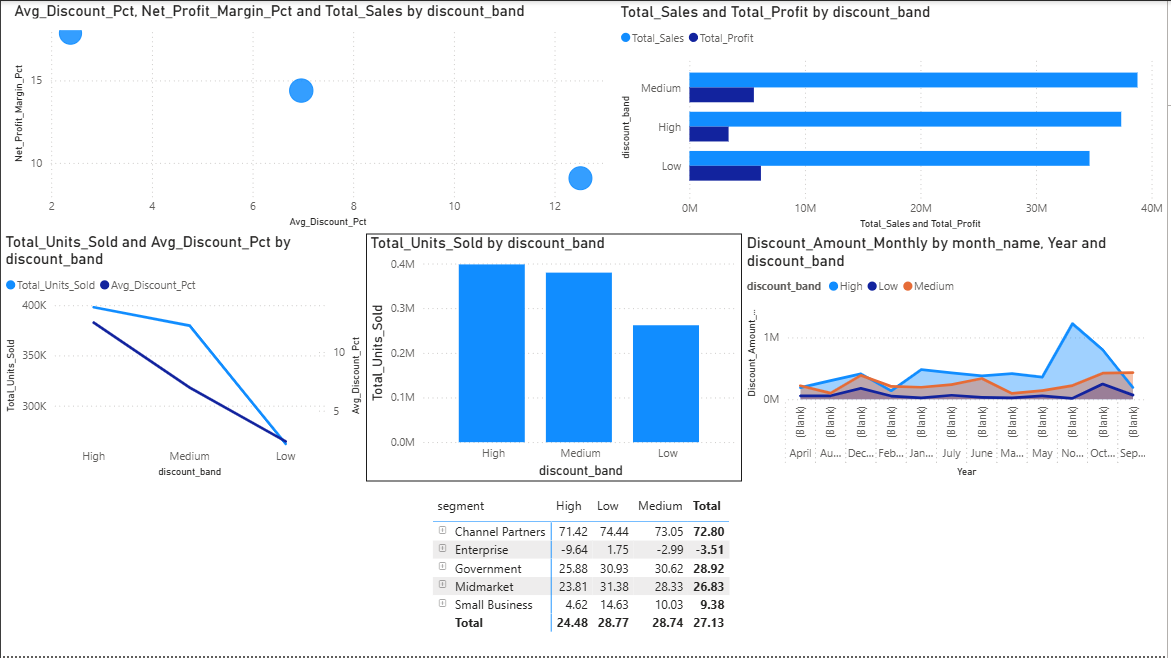

The page's visual inventory and layout, read from the dashboard file:
{"tool":"powerbi","page":{"name":"Page 3","canvas":[1280,720],"ordinal":2},"visuals":[{"type":"scatterChart","fields":{"Category":["financial_operations_db fact_sales.discount_band"],"X":["_Discount_Analysis_Measures.Avg_Discount_Pct"],"Y":["_Financial_Ratios.Net_Profit_Margin_Pct"],"Size":["_Measures.Total_Sales"]},"box":[28.8,30.2,584.6,388.3],"z":0},{"type":"clusteredBarChart","fields":{"Category":["financial_operations_db fact_sales.discount_band"],"Y":["_Measures.Total_Sales","_Measures.Total_Profit"]},"box":[665.5,30.2,599.7,200.3],"z":1000},{"type":"lineChart","fields":{"Category":["financial_operations_db fact_sales.discount_band"],"Y":["_Measures.Total_Units_Sold"],"Y2":["_Discount_Analysis_Measures.Avg_Discount_Pct"]},"box":[9.6,454.2,400.7,249.7],"z":2000},{"type":"clusteredColumnChart","fields":{"Category":["financial_operations_db fact_sales.discount_band"],"Y":["_Measures.Total_Units_Sold"]},"box":[439.1,454.2,399.3,249.7],"z":3000},{"type":"areaChart","fields":{"Category":["financial_operations_db fact_sales.month_name","Date_Dimension.Year"],"Y":["_Discount_Analysis_Measures.Discount_Amount_Monthly"],"Series":["financial_operations_db fact_sales.discount_band"]},"box":[865.9,454.2,399.3,249.7],"z":4000},{"type":"pivotTable","fields":{"Rows":["financial_operations_db fact_sales.segment","financial_operations_db fact_sales.product"],"Columns":["financial_operations_db fact_sales.discount_band"],"Values":["_Discount_Analysis_Measures.Avg_Margin_By_Discount"]},"box":[665.5,248.4,454.2,182.5],"z":5000}]}

Visuals, with their boxes in screenshot pixels (x1, y1, x2, y2), scaled from the page's 1280x720 canvas onto the 1171x658 screenshot:
scatterChart - financial_operations_db fact_sales.discount_band x _Discount_Analysis_Measures.Avg_Discount_Pct: Rect(26, 28, 561, 382)
clusteredBarChart - financial_operations_db fact_sales.discount_band x _Measures.Total_Sales: Rect(609, 28, 1157, 211)
lineChart - financial_operations_db fact_sales.discount_band x _Measures.Total_Units_Sold: Rect(9, 415, 375, 643)
clusteredColumnChart - financial_operations_db fact_sales.discount_band x _Measures.Total_Units_Sold: Rect(402, 415, 767, 643)
areaChart - financial_operations_db fact_sales.month_name x Date_Dimension.Year: Rect(792, 415, 1157, 643)
pivotTable - financial_operations_db fact_sales.segment x financial_operations_db fact_sales.product: Rect(609, 227, 1024, 394)
